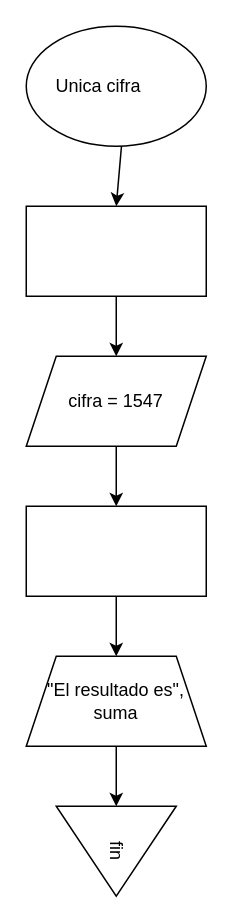
This 233x923 diagram has some shape labels left out. Each missing label, with the box of its shape:
int cifra, suma: (25, 205, 206, 296)
Sumatoria de valores: (25, 505, 206, 596)
